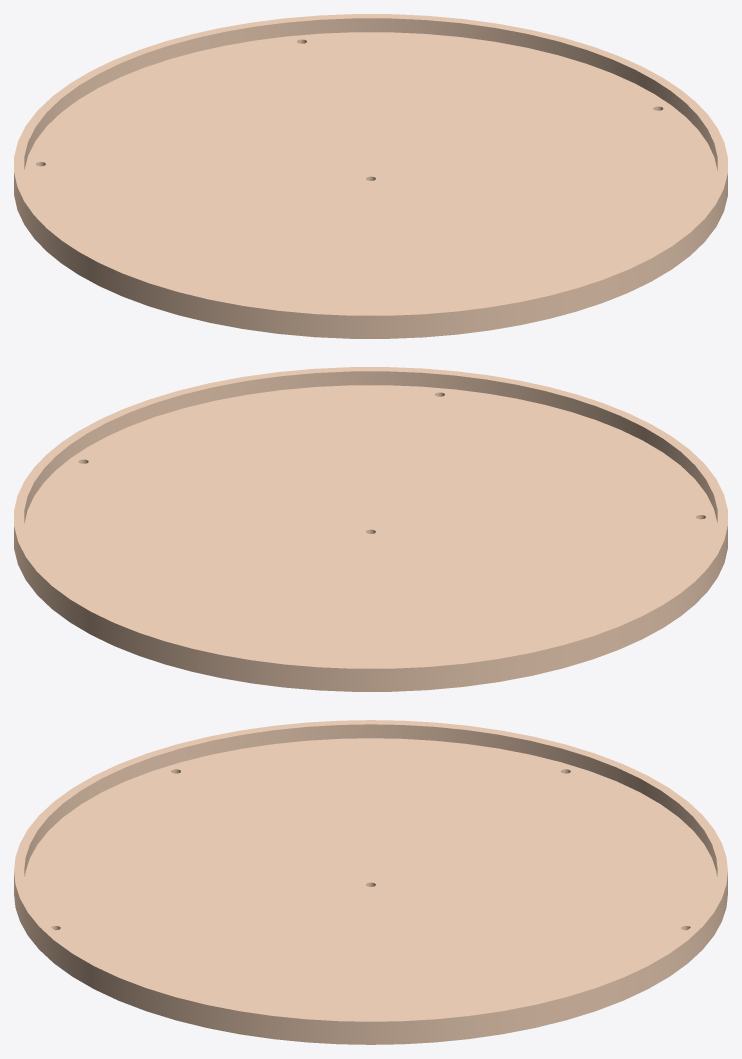
Rendered from SPBA-TEAR-6-Gold.glb.
3 views of the same model, one above another, from view 1: azimuth 30°, elevation 25°; view 2: azimuth 150°, elevation 25°; view 3: azimuth 270°, elevation 25° (orthographic).
Visible parts, largest first — view 1: Mesh_0.008, Mesh_1.006; view 2: Mesh_0.008, Mesh_1.006; view 3: Mesh_0.008, Mesh_1.006.
Boxes of the visible parts, x1=… form: Mesh_0.008: x1=24, y1=32, x2=717, y2=311; Mesh_1.006: x1=14, y1=14, x2=727, y2=338; Mesh_0.008: x1=24, y1=385, x2=717, y2=664; Mesh_1.006: x1=14, y1=367, x2=727, y2=691; Mesh_0.008: x1=25, y1=738, x2=716, y2=1017; Mesh_1.006: x1=14, y1=720, x2=727, y2=1044.
Size of the model in its own units: 0.7 by 0.025 by 0.7.
